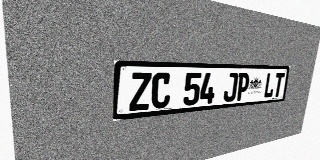4: (199, 73, 217, 104)
5: (183, 73, 202, 106)
C: (151, 73, 172, 109)
J: (223, 73, 239, 102)
L: (263, 73, 276, 98)
P: (235, 73, 250, 101)
T: (272, 73, 285, 97)
Z: (129, 72, 152, 111)
